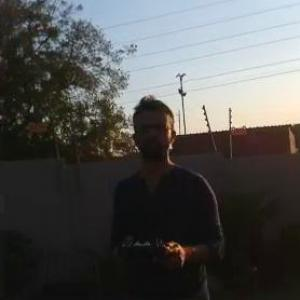follow: (105, 92, 231, 299)
